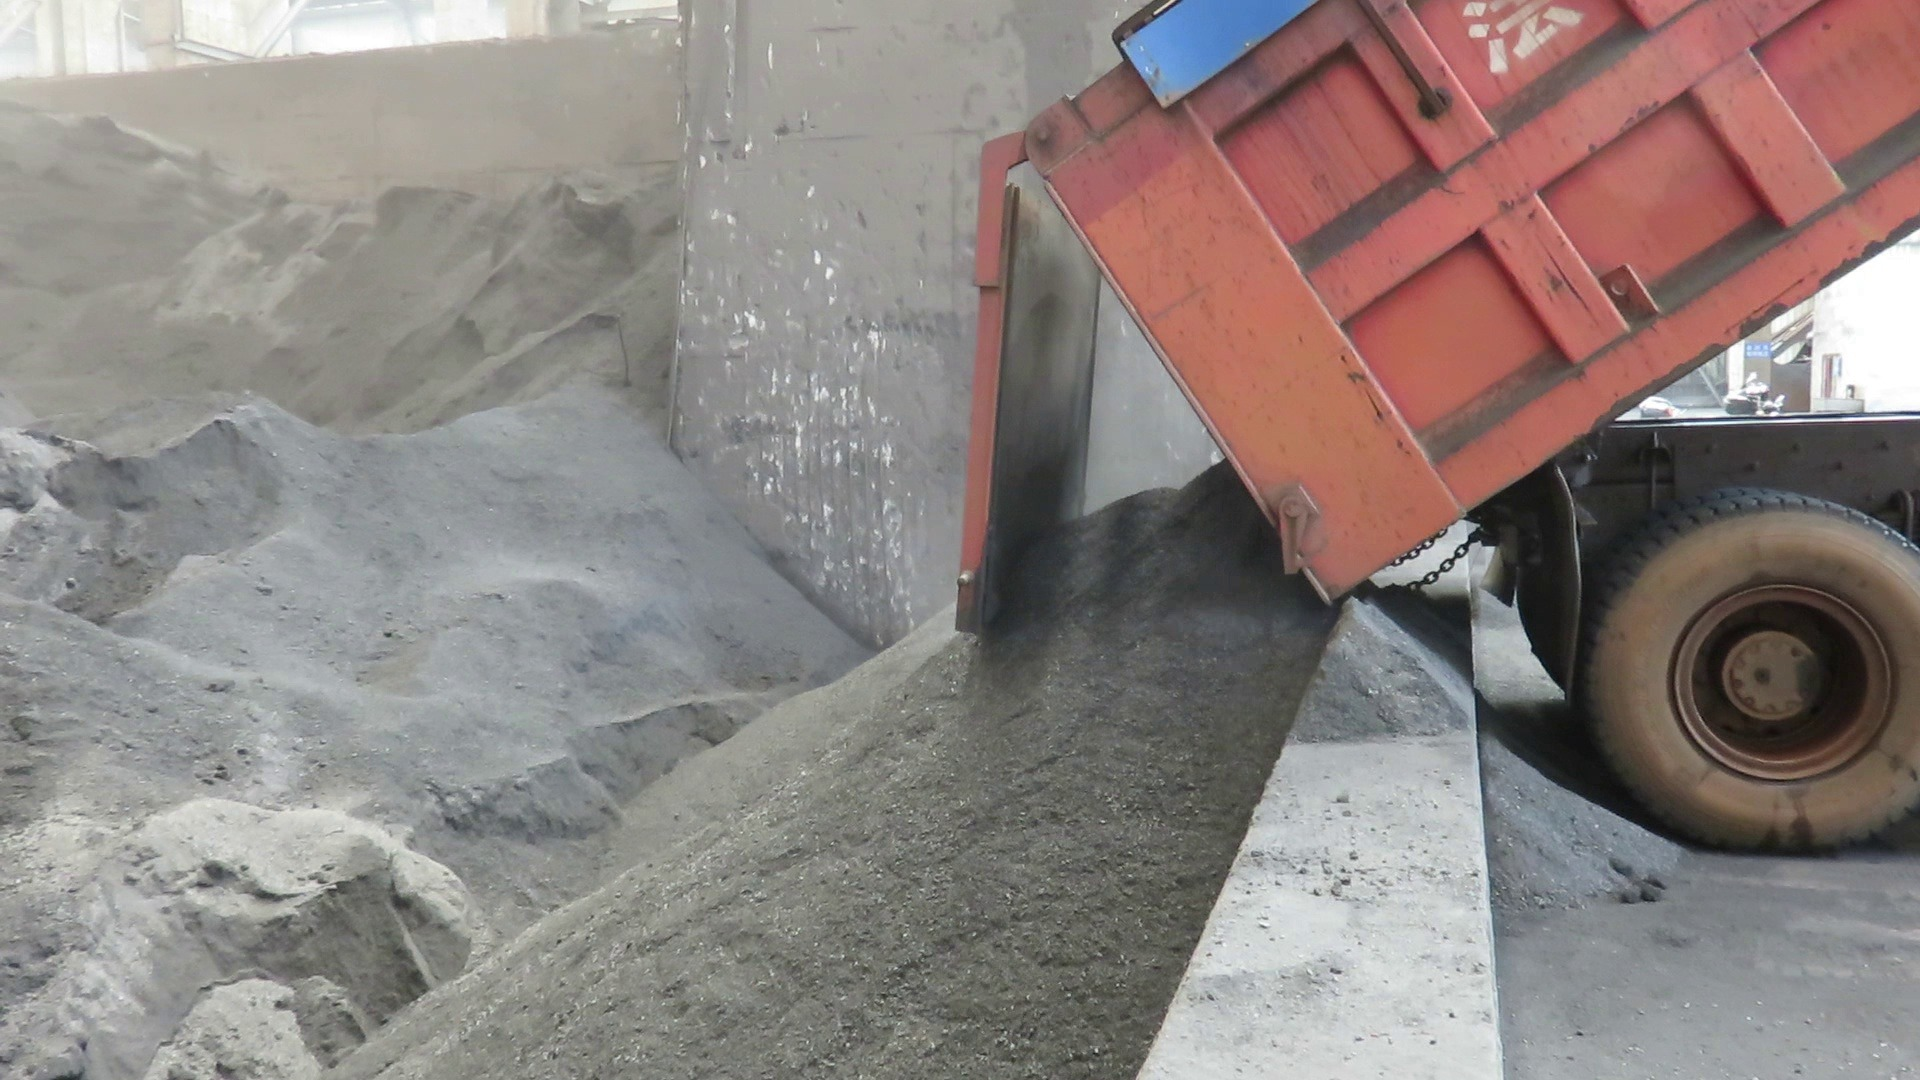truck: (942, 0, 1920, 870)
